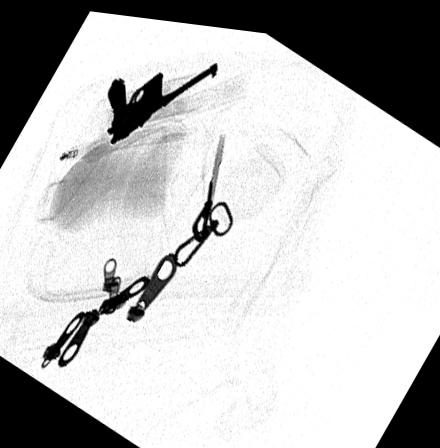Gun: (104, 52, 221, 142)
